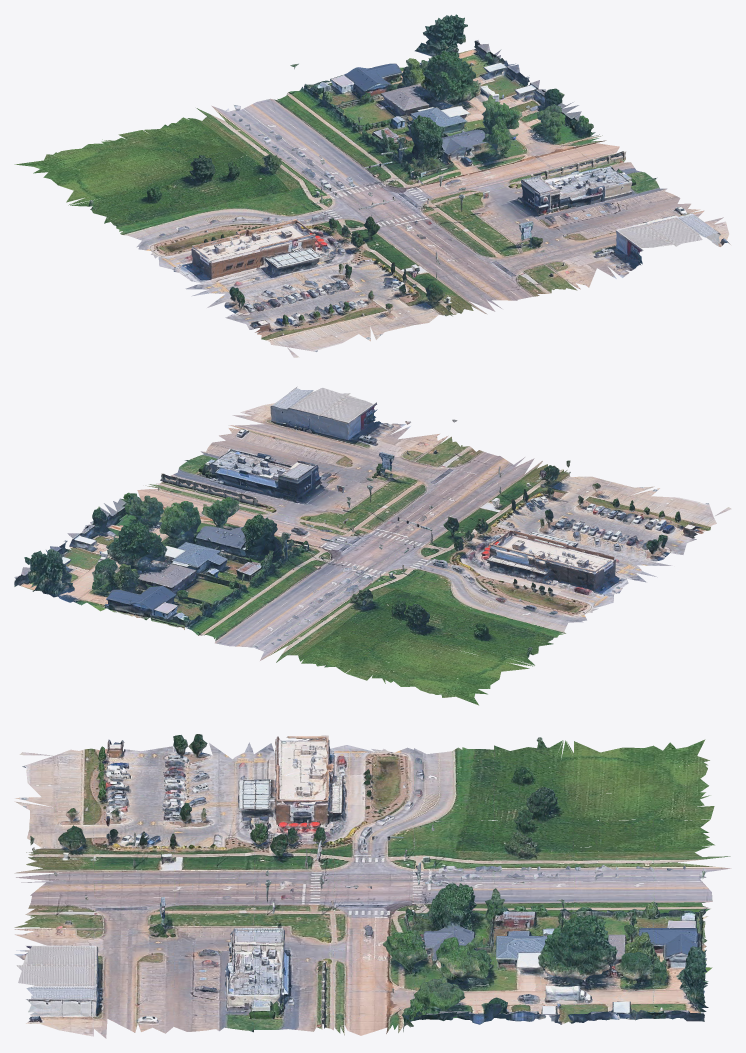
3 views of the same model, one above another, from view 1: azimuth 30°, elevation 25°; view 2: azimuth 150°, elevation 25°; view 3: azimuth 270°, elevation 25° (orthographic). The views are drawn at different scales.
Visible parts, largest first — view 1: 20537052505170660732; view 2: 20537052505170660732; view 3: 20537052505170660732.
Boxes of the visible parts, x1,y1,x2,y2 form: 20537052505170660732: [14, 14, 731, 357]; 20537052505170660732: [14, 386, 731, 705]; 20537052505170660732: [14, 734, 731, 1038].
Bounding box in the file's own units: 170 × 18.85 × 171.
Materials: 36 (36 with a texture image).
